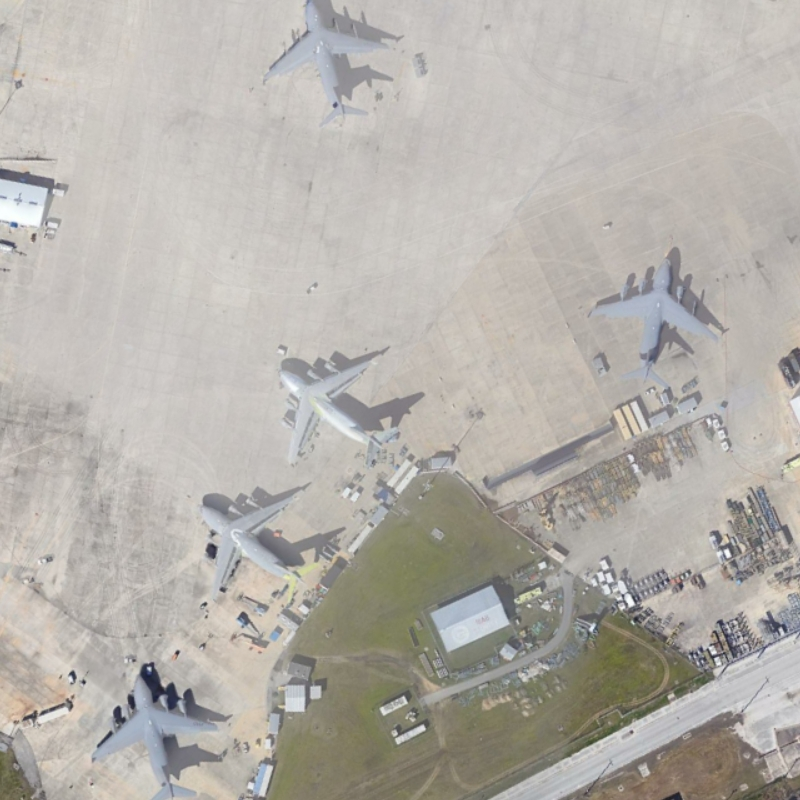A3: (576, 236, 724, 399), (83, 668, 229, 800), (268, 344, 415, 473), (257, 1, 395, 124), (186, 479, 316, 602)
